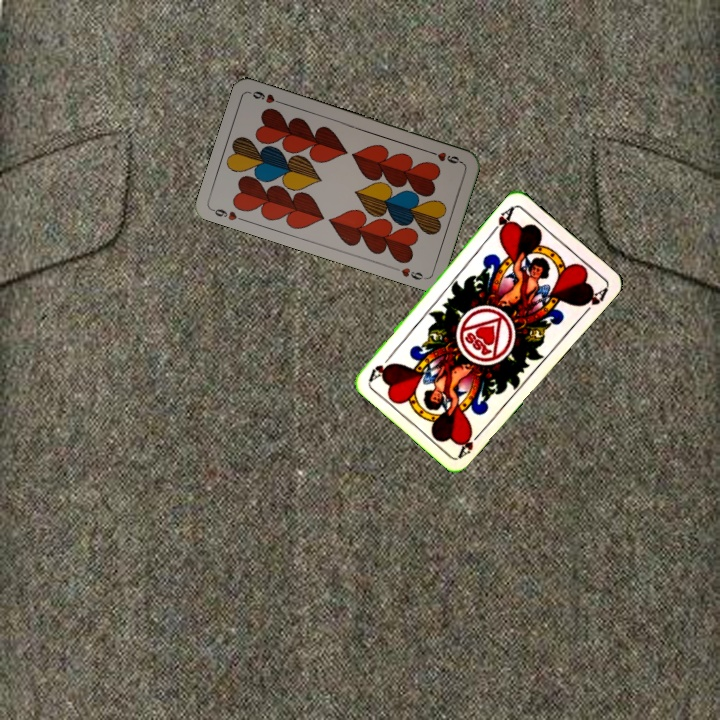H9: (425, 147, 465, 166), (208, 205, 248, 224)
HA: (487, 202, 517, 240), (455, 426, 486, 460)
